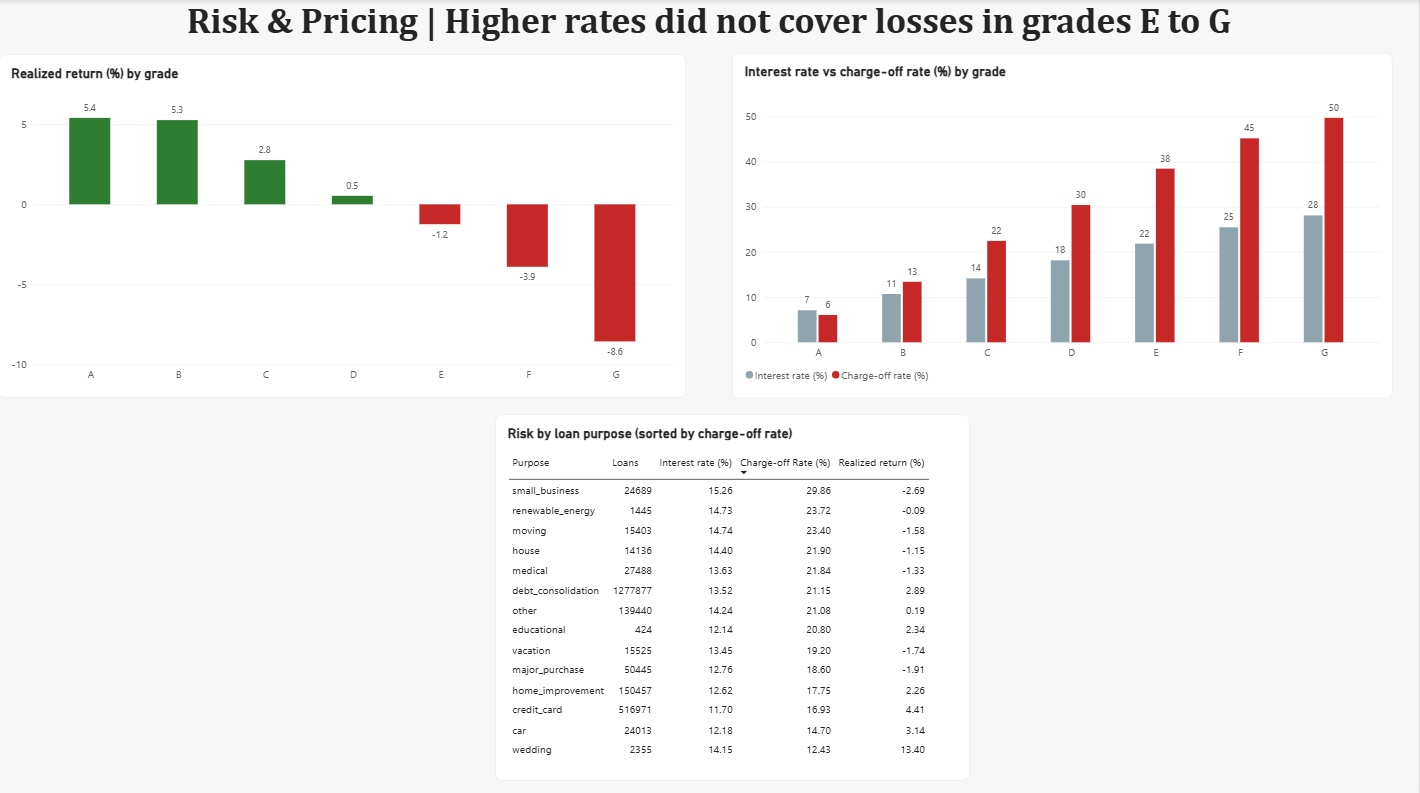

What the dashboard file says about the page in this screenshot:
{"tool":"powerbi","page":{"name":"Risk & Pricing","canvas":[1920,1080],"ordinal":1},"visuals":[{"type":"textbox","box":[0,0,1919.1,104.9],"z":0},{"type":"clusteredColumnChart","title":"Realized return (%) by grade","fields":{"Category":["pbi_risk_by_segment.SEGMENT"],"Y":["Sum(pbi_risk_by_segment.REALIZED_RETURN_PCT)"]},"box":[0,75,928.6,464.3],"z":1},{"type":"clusteredColumnChart","title":"Interest rate vs charge-off rate (%) by grade","fields":{"Category":["pbi_risk_by_segment.SEGMENT"],"Y":["Sum(pbi_risk_by_segment.AVG_INT_RATE_PCT)","Sum(pbi_risk_by_segment.CHARGE_OFF_RATE_PCT)"]},"box":[991.5,73,892.1,466.3],"z":2},{"type":"tableEx","title":"Risk by loan purpose (sorted by charge-off rate)","fields":{"Values":["pbi_risk_by_segment.SEGMENT","Sum(pbi_risk_by_segment.LOANS)","Sum(pbi_risk_by_segment.AVG_INT_RATE_PCT)","Sum(pbi_risk_by_segment.CHARGE_OFF_RATE_PCT)","Sum(pbi_risk_by_segment.REALIZED_RETURN_PCT)"]},"box":[671.1,561.6,640.7,494.7],"z":3}]}

Visuals, with their boxes in screenshot pixels (x1, y1, x2, y2), scaled from the page's 1920x1080 canvas onto the 1420x793 screenshot:
textbox: crop(0, 0, 1419, 77)
"Realized return (%) by grade" clusteredColumnChart: crop(0, 55, 687, 396)
"Interest rate vs charge-off rate (%) by grade" clusteredColumnChart: crop(733, 54, 1393, 396)
"Risk by loan purpose (sorted by charge-off rate)" tableEx: crop(496, 412, 970, 776)
